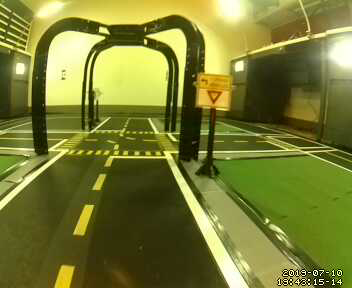Turn Yield: (198, 73, 230, 110)
